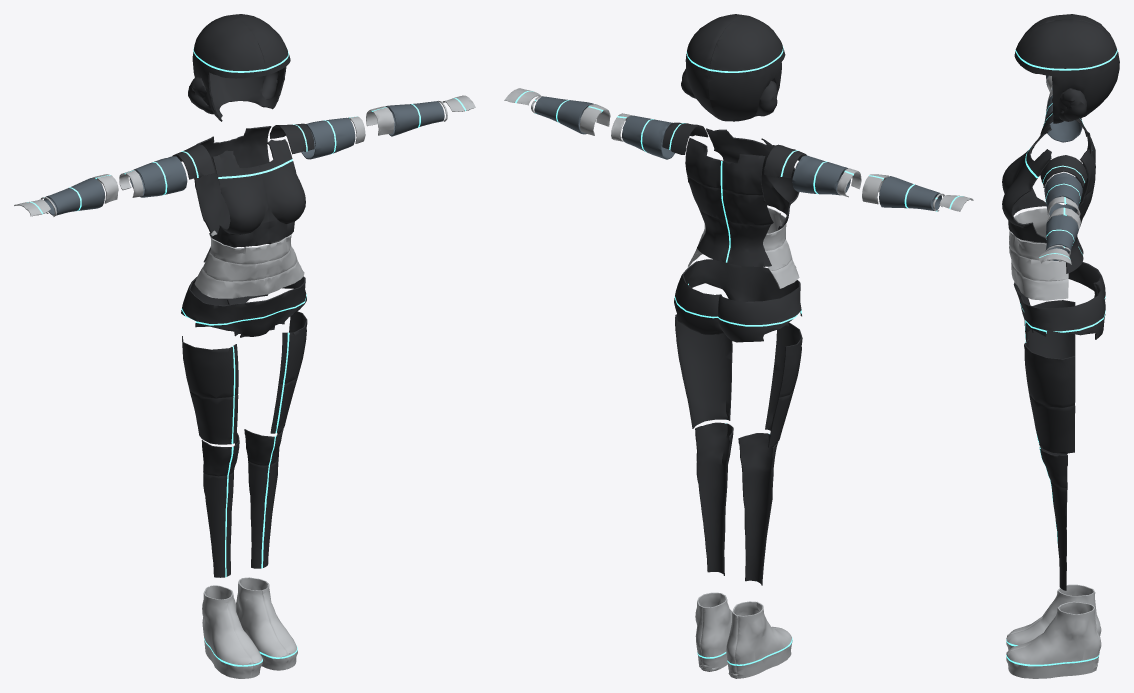
File: exo_full.glb
3 renders of one model, left to right at view 1: azimuth 30°, elevation 25°; view 2: azimuth 150°, elevation 25°; view 3: azimuth 270°, elevation 25°, orthographic.
Parts seen in each view (by area): view 1: helmet, chest, abdomen, thigh_shell_R, pelvis, boot_R, shin_shell_R, shin_shell_L, boot_L, back, thigh_shell_L, upper_arm_cuff_R (+6 smaller); view 2: helmet, back, pelvis, thigh_shell_L, shin_shell_L, shin_shell_R, boot_R, thigh_shell_R, boot_L, chest, abdomen, upper_arm_cuff_R (+6 smaller); view 3: helmet, boot_L, thigh_shell_L, abdomen, pelvis, chest, shin_shell_L, boot_R, thigh_shell_R, back, upper_arm_cuff_L, forearm_cuff_L (+5 smaller).
Boxes of the visible parts, x1,y1,x2,y2 form: helmet: [188, 14, 290, 121]; chest: [209, 139, 305, 246]; abdomen: [194, 230, 304, 298]; thigh_shell_R: [182, 336, 238, 444]; pelvis: [181, 276, 306, 337]; boot_R: [202, 585, 262, 678]; shin_shell_R: [201, 433, 239, 577]; shin_shell_L: [244, 429, 283, 568]; boot_L: [236, 577, 297, 670]; back: [194, 126, 271, 262]; thigh_shell_L: [270, 311, 307, 433]; upper_arm_cuff_R: [129, 156, 187, 197]; helmet: [681, 14, 785, 121]; back: [685, 137, 773, 266]; pelvis: [674, 259, 801, 342]; thigh_shell_L: [675, 314, 732, 428]; shin_shell_L: [695, 422, 733, 575]; shin_shell_R: [738, 433, 778, 585]; boot_R: [726, 601, 792, 678]; thigh_shell_R: [765, 322, 802, 447]; boot_L: [695, 592, 731, 671]; chest: [706, 128, 799, 229]; abdomen: [688, 208, 799, 288]; upper_arm_cuff_R: [792, 155, 850, 195]; helmet: [1014, 14, 1119, 123]; boot_L: [1006, 601, 1101, 678]; thigh_shell_L: [1024, 339, 1075, 453]; abdomen: [1009, 208, 1068, 300]; pelvis: [1013, 262, 1105, 339]; chest: [1002, 125, 1051, 242]; shin_shell_L: [1039, 446, 1067, 590]; boot_R: [1006, 584, 1101, 650]; thigh_shell_R: [1024, 300, 1075, 358]; back: [1066, 122, 1095, 273]; upper_arm_cuff_L: [1044, 172, 1082, 215]; forearm_cuff_L: [1045, 215, 1078, 260].
Bounding box in the file's own units: 1.21 × 1.63 × 0.2711.
